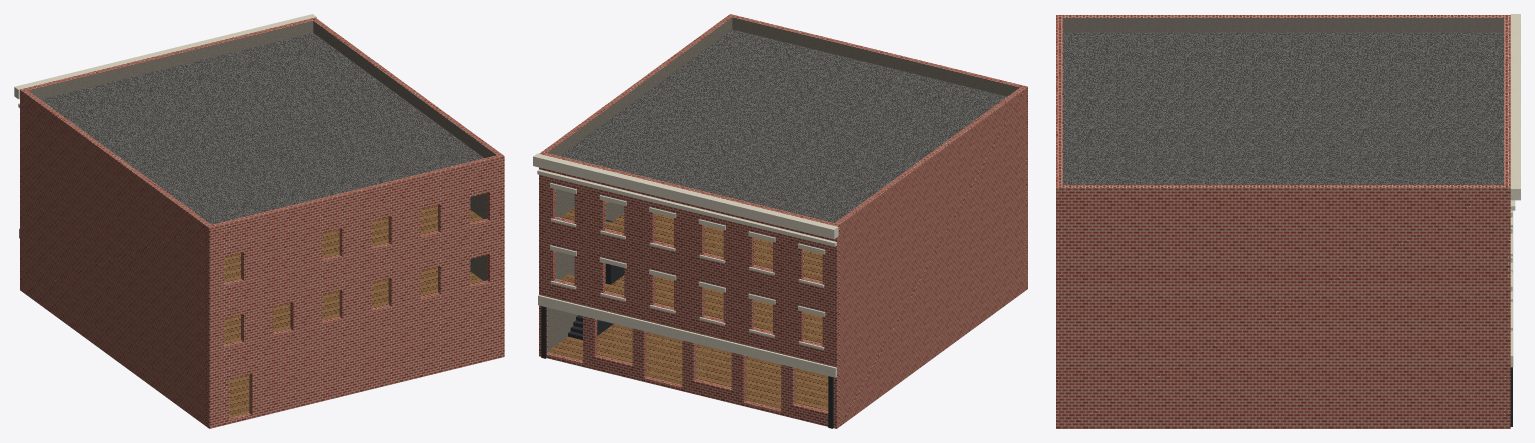
The model's file is main_street_red_18m_3st.glb.
3 renders of one model, left to right at view 1: azimuth 30°, elevation 25°; view 2: azimuth 150°, elevation 25°; view 3: azimuth 270°, elevation 25°, orthographic. The views are drawn at different scales.
Visible parts, largest first — view 1: main_street_red_18m_3st; view 2: main_street_red_18m_3st; view 3: main_street_red_18m_3st.
Boxes of the visible parts, x1,y1,x2,y2 form: main_street_red_18m_3st: (14,14,504,428); main_street_red_18m_3st: (533,14,1027,428); main_street_red_18m_3st: (1056,14,1520,428).
Bounding box in the file's own units: 18.2 × 11.7 × 20.45.
6 materials, 6 textured.
